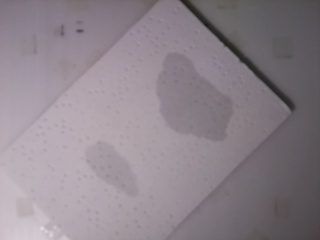Water_detected: (162, 75, 217, 136), (97, 152, 137, 191)
